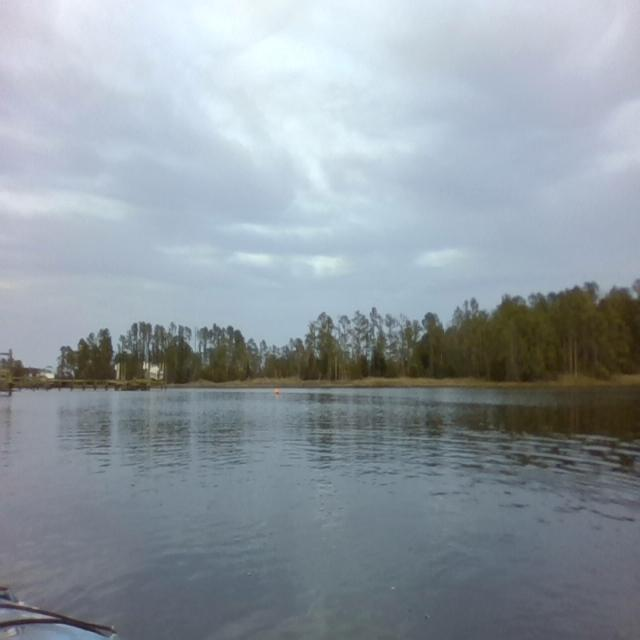Buoy: (274, 382, 283, 402)
